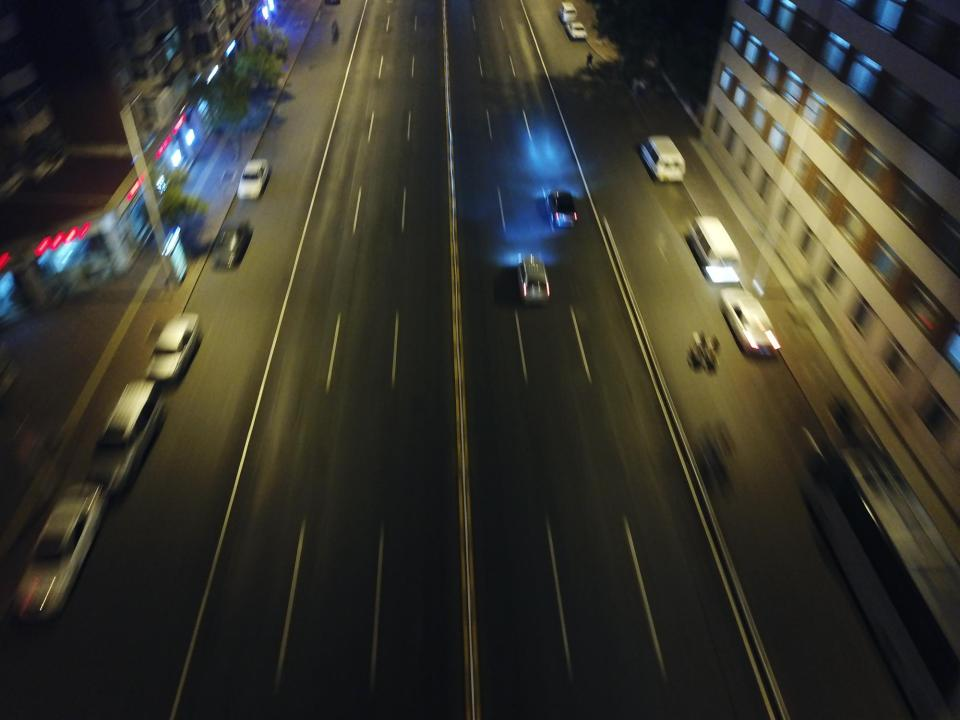bus: (798, 400, 960, 718)
car: (720, 286, 781, 358), (143, 312, 201, 384), (212, 215, 252, 271), (516, 255, 550, 306), (234, 158, 271, 202), (546, 187, 577, 231), (565, 21, 589, 42)
van: (82, 380, 170, 494), (686, 214, 742, 284), (638, 133, 686, 185), (558, 1, 576, 26)
